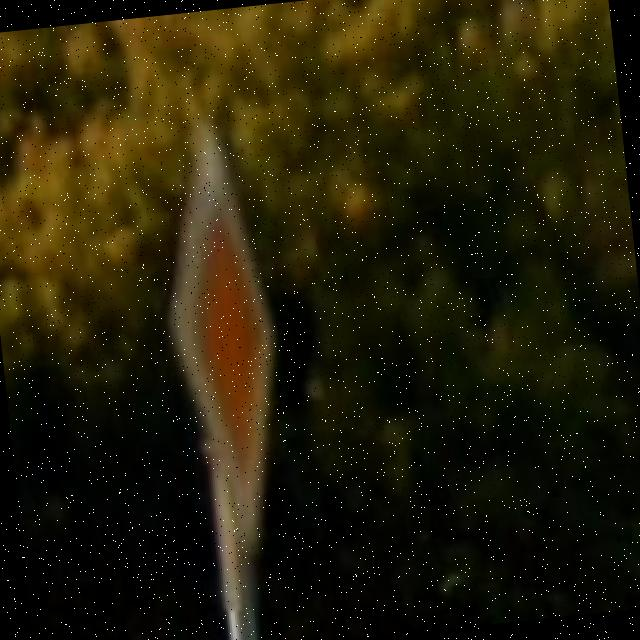Droga z pierwszenstwem: (143, 112, 300, 558)
